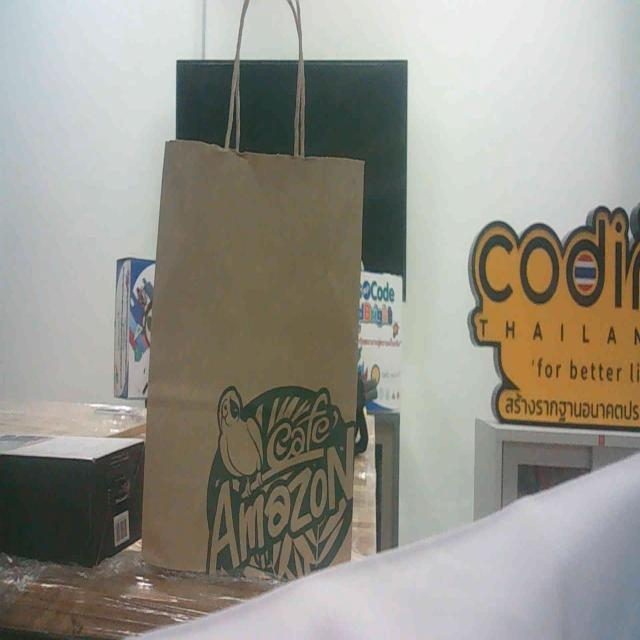bag: (150, 105, 368, 597)
